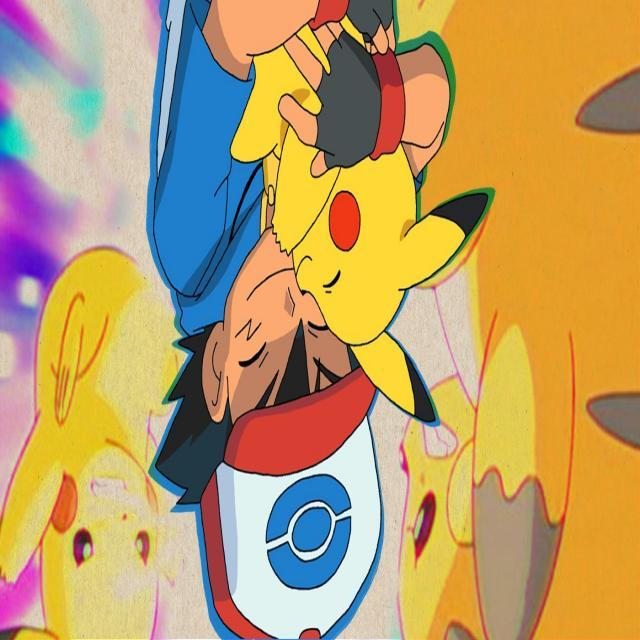Pikachu: (210, 0, 478, 411)
